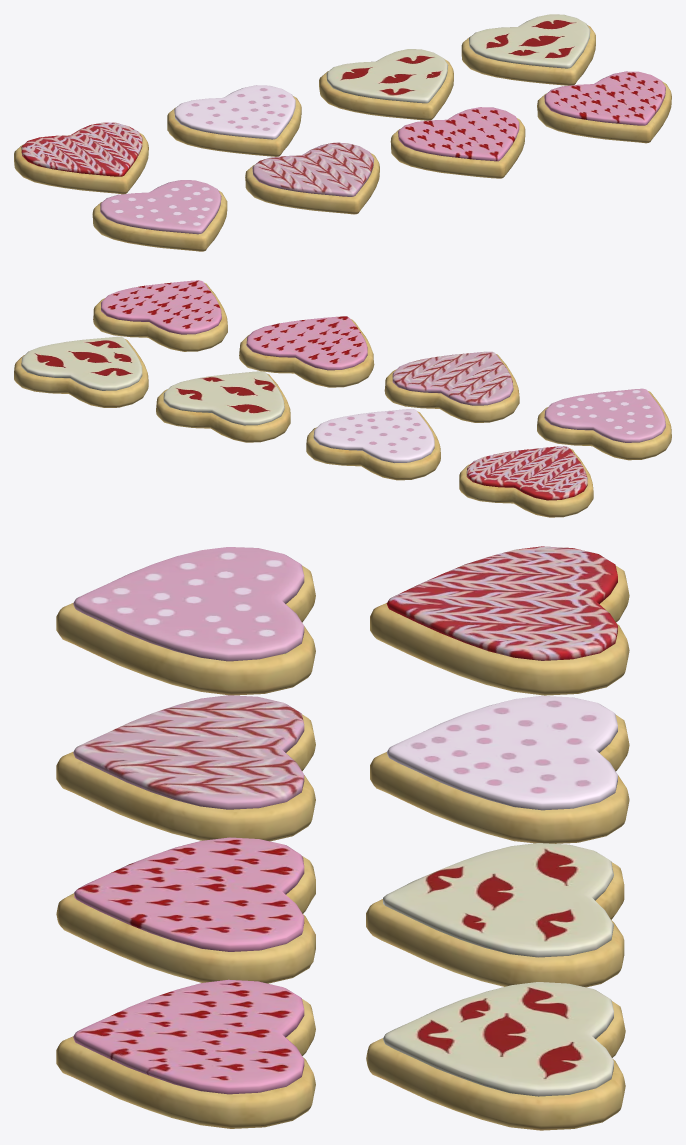
File: cookies-transformed.glb
3 renders of one model, top to bottom at view 1: azimuth 30°, elevation 25°; view 2: azimuth 150°, elevation 25°; view 3: azimuth 270°, elevation 25°, orthographic. The views are drawn at different scales.
Visible parts, largest first — view 1: Lips_Cookie_1_8_Variety_Valentine's_Heart_Cookies_0; view 2: Lips_Cookie_1_8_Variety_Valentine's_Heart_Cookies_0; view 3: Lips_Cookie_1_8_Variety_Valentine's_Heart_Cookies_0.
Part boxes in pixels (left/top/right/bottom): Lips_Cookie_1_8_Variety_Valentine's_Heart_Cookies_0: left=14, top=14, right=671, bottom=251; Lips_Cookie_1_8_Variety_Valentine's_Heart_Cookies_0: left=14, top=280, right=671, bottom=517; Lips_Cookie_1_8_Variety_Valentine's_Heart_Cookies_0: left=56, top=546, right=629, bottom=1130.
Bounding box in the file's own units: 0.3763 × 0.0132 × 0.1641.
1 material, 1 textured.
